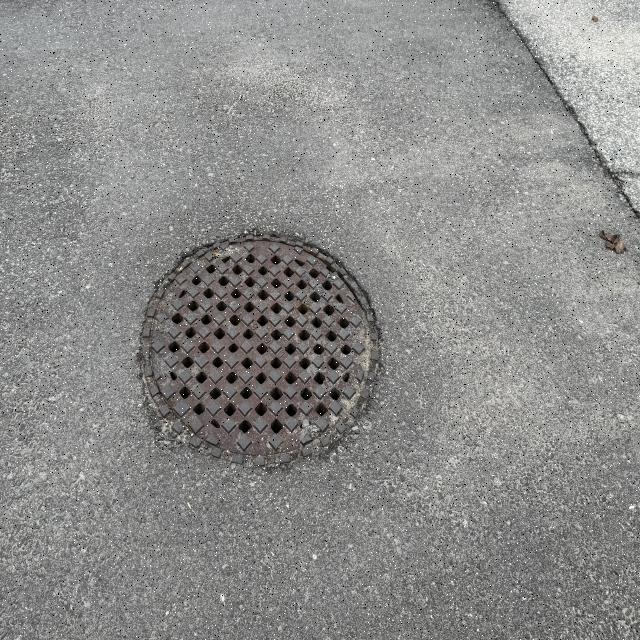Manhole: (134, 224, 382, 468)
